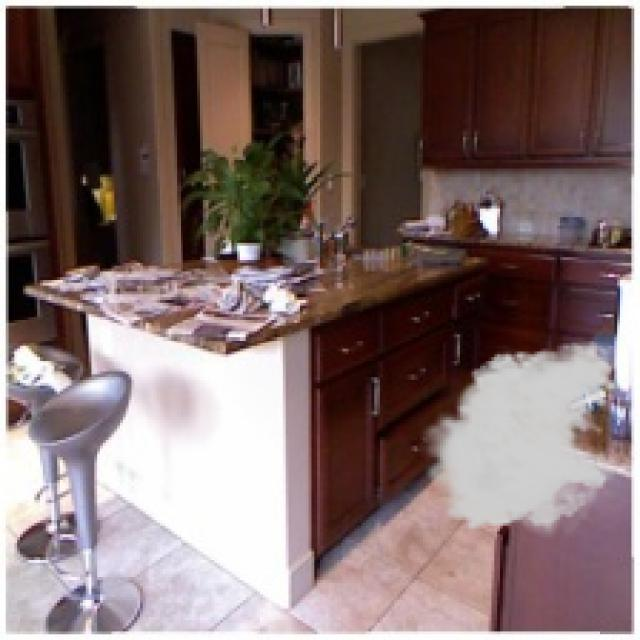Smoke: (417, 340, 620, 543)
